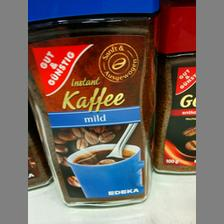Kaffee: (26, 0, 158, 206), (152, 3, 196, 173)
